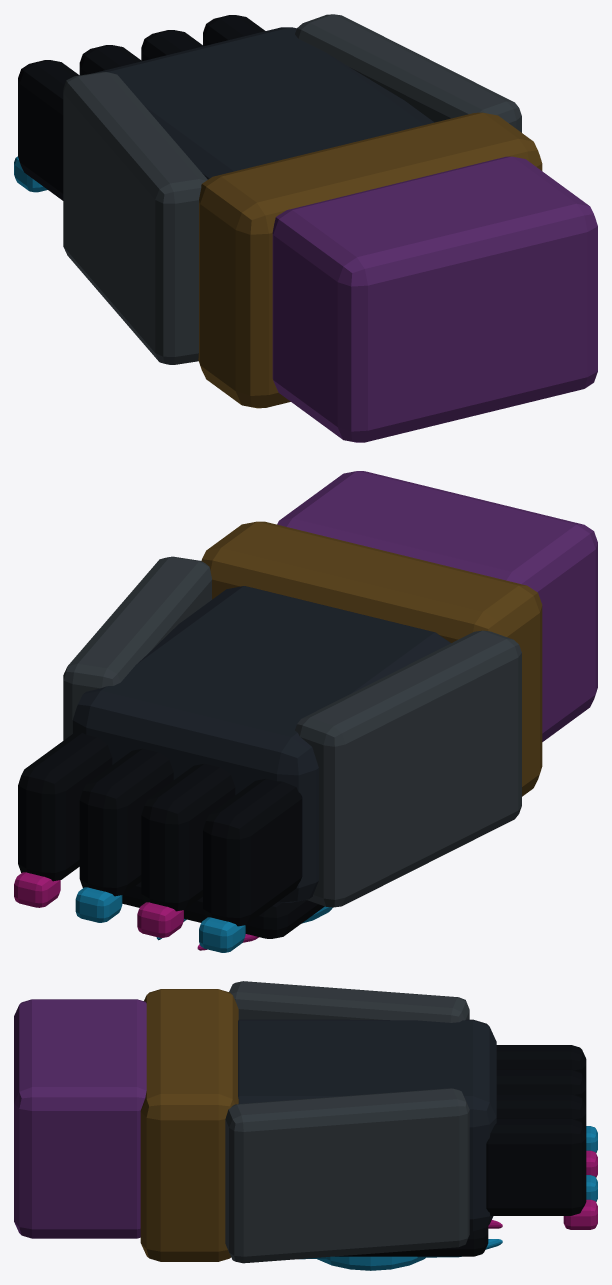
Rendered from Prismora_Scintilla_V2.fbx.
3 renders of one model, top to bottom at view 1: azimuth 30°, elevation 25°; view 2: azimuth 150°, elevation 25°; view 3: azimuth 270°, elevation 25°, orthographic. The views are drawn at different scales.
Visible parts, largest first — view 1: ScintillaV2_Body; view 2: ScintillaV2_Body, ScintillaV2_Energy; view 3: ScintillaV2_Body, ScintillaV2_Energy.
Boxes of the visible parts, x1,y1,x2,y2 form: ScintillaV2_Body: (18, 14, 597, 442); ScintillaV2_Body: (18, 471, 597, 938); ScintillaV2_Energy: (14, 872, 332, 952); ScintillaV2_Body: (14, 981, 586, 1263); ScintillaV2_Energy: (299, 1126, 597, 1270).
Size of the model in its own units: 1.89 by 1.24 by 3.23.
3 materials, 2 textured.
